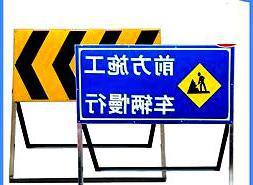sign: (78, 46, 233, 122)
